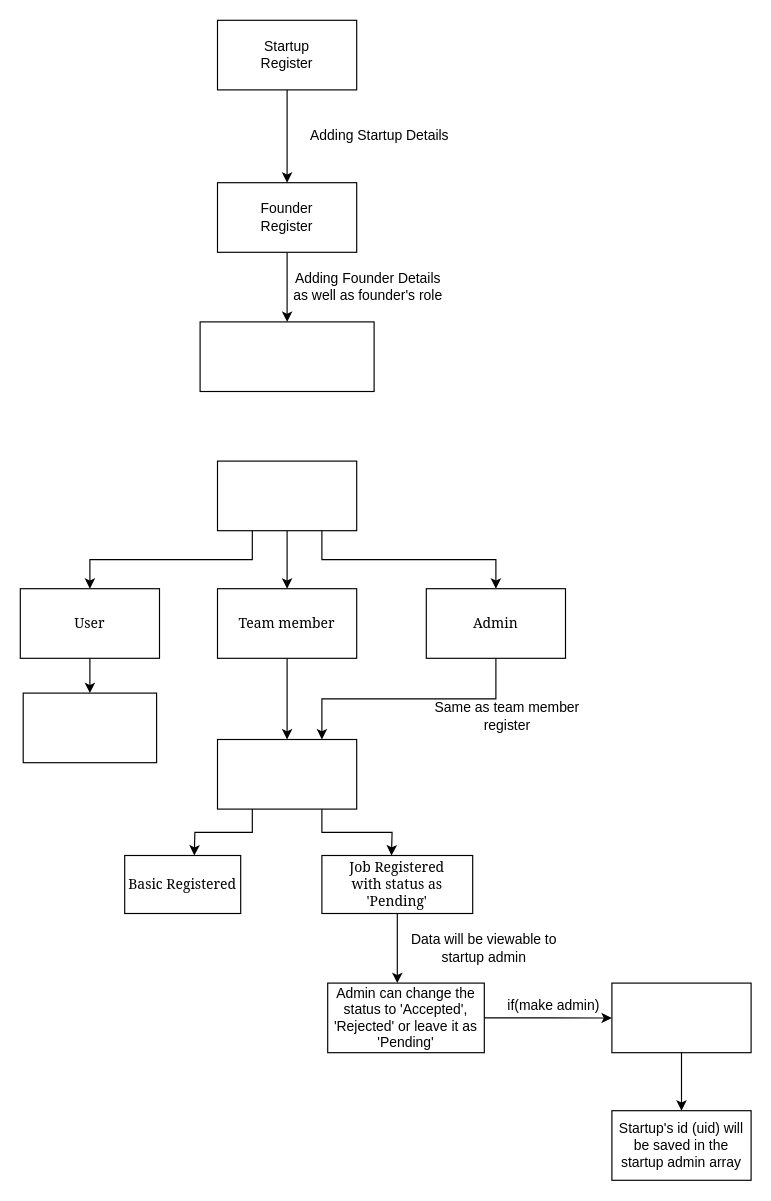
This 771x1201 diagram has some shape labels left out. Here are the shapes that lost their labels. From the top down, the box of each, then its label:
(199, 321, 374, 392): Data saved successfully in respective databases
(216, 460, 357, 531): User / Team member / Admin Register
(22, 692, 157, 763): Adding basic and job details if unemplyed then basic details only
(216, 738, 357, 809): Adding Basic Details and Job Details
(611, 982, 751, 1053): Admin will add the member to the startup admin panel
